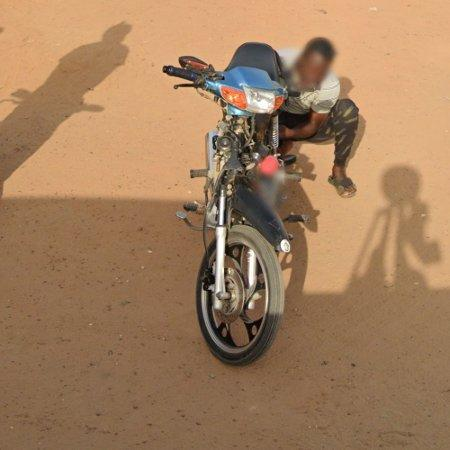motorcycles: (163, 42, 292, 365)
